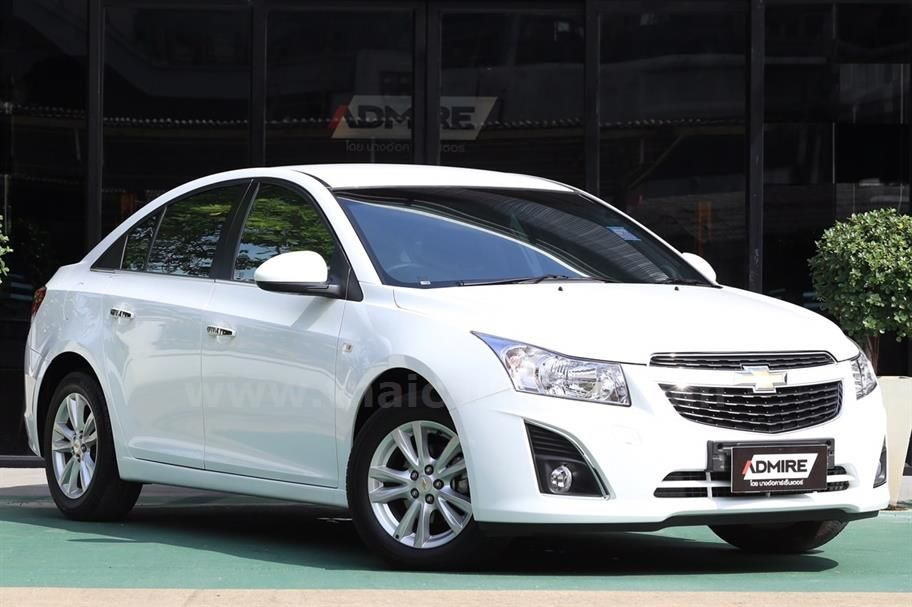sedan: (23, 165, 894, 568)
